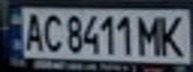1: (115, 12, 136, 55), (100, 12, 118, 55)
4: (81, 12, 103, 55)
8: (63, 11, 84, 54)
A: (21, 10, 45, 52)
C: (39, 10, 63, 53)
K: (154, 11, 190, 57)
M: (136, 12, 166, 56)
